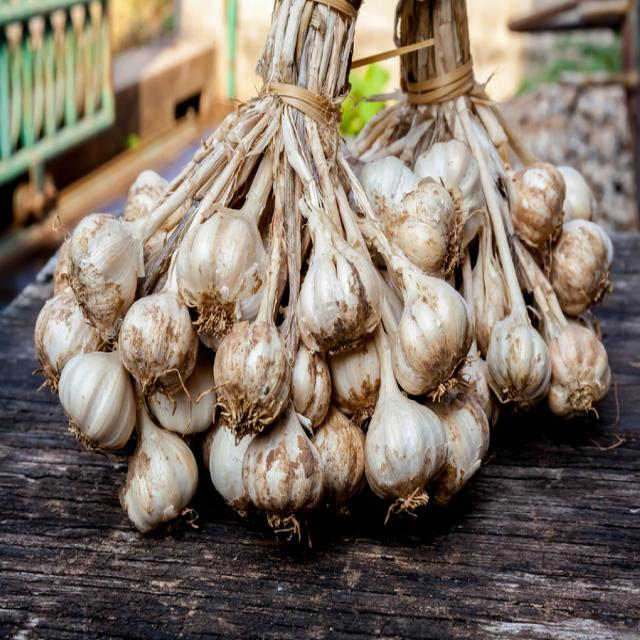Garlic: (192, 276, 306, 452), (56, 181, 164, 347), (280, 196, 384, 366), (521, 292, 626, 458), (92, 259, 206, 409), (101, 426, 206, 580), (365, 338, 447, 528), (394, 242, 484, 410), (475, 276, 556, 450), (489, 142, 576, 304), (45, 322, 133, 473), (245, 384, 332, 535), (396, 154, 480, 300), (182, 194, 270, 332), (537, 210, 621, 343)
